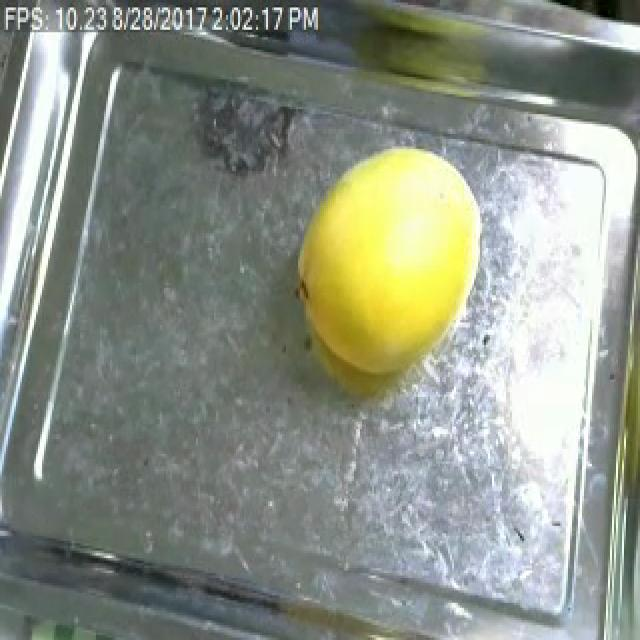fruit: (272, 119, 512, 402)
